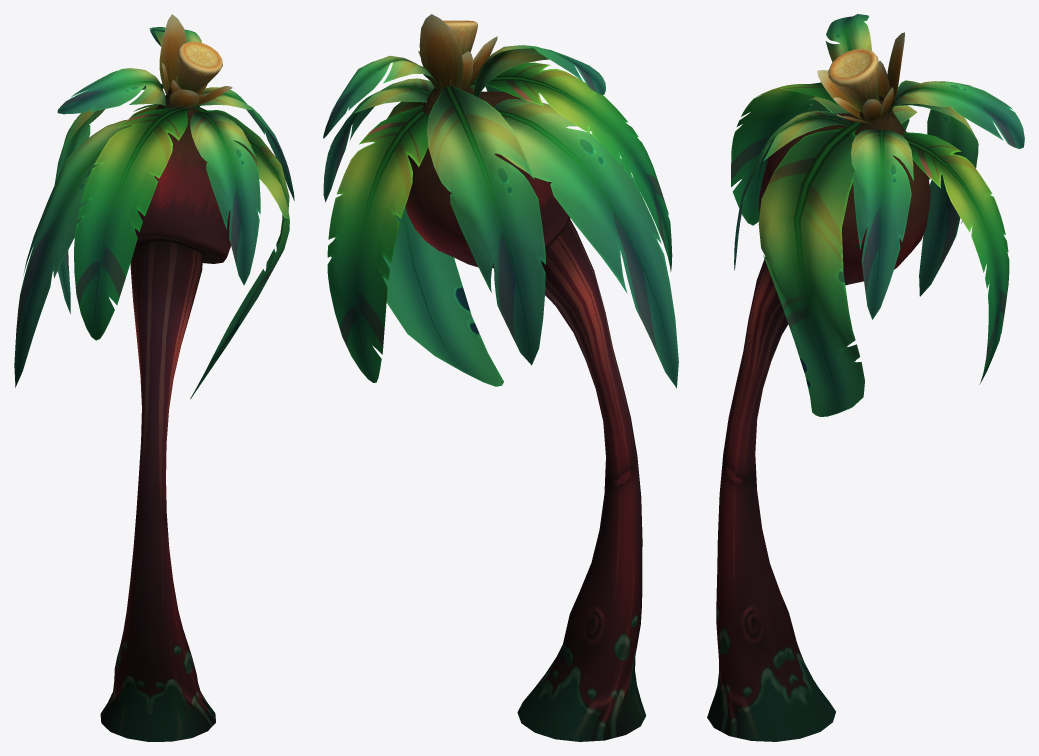
File: palm02.fbx
The picture shows the model from 3 angles, left to right: view 1: azimuth 30°, elevation 25°; view 2: azimuth 150°, elevation 25°; view 3: azimuth 270°, elevation 25°; orthographic projection. The views are drawn at different scales.
Visible parts, largest first — view 1: palm02; view 2: palm02; view 3: palm02.
Boxes of the visible parts, x1,y1,x2,y2 form: palm02: (14, 14, 294, 741); palm02: (323, 14, 678, 741); palm02: (707, 14, 1024, 741).
Bounding box in the file's own units: 75.06 × 157 × 62.43.
Materials: 1 (1 with a texture image).
